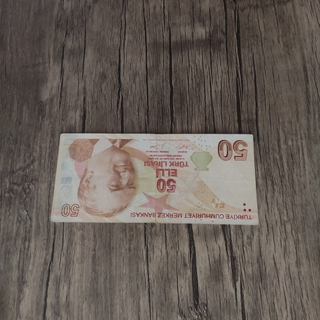50TLFront: (49, 132, 259, 225)
